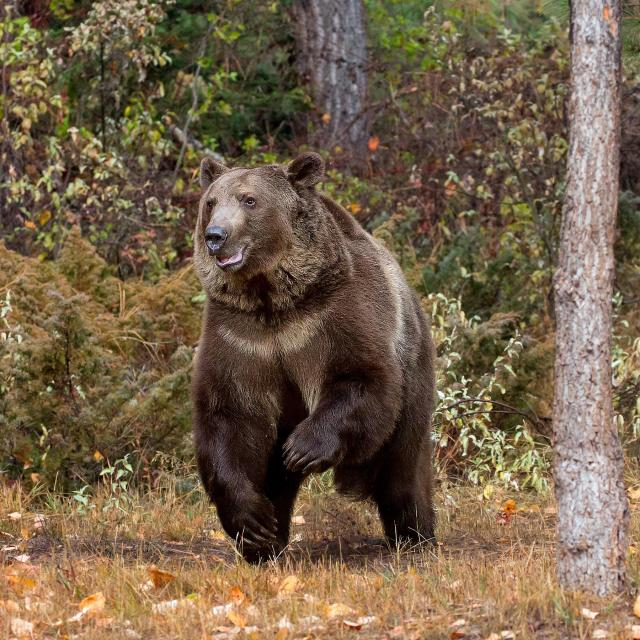Bear: (190, 153, 438, 567)
